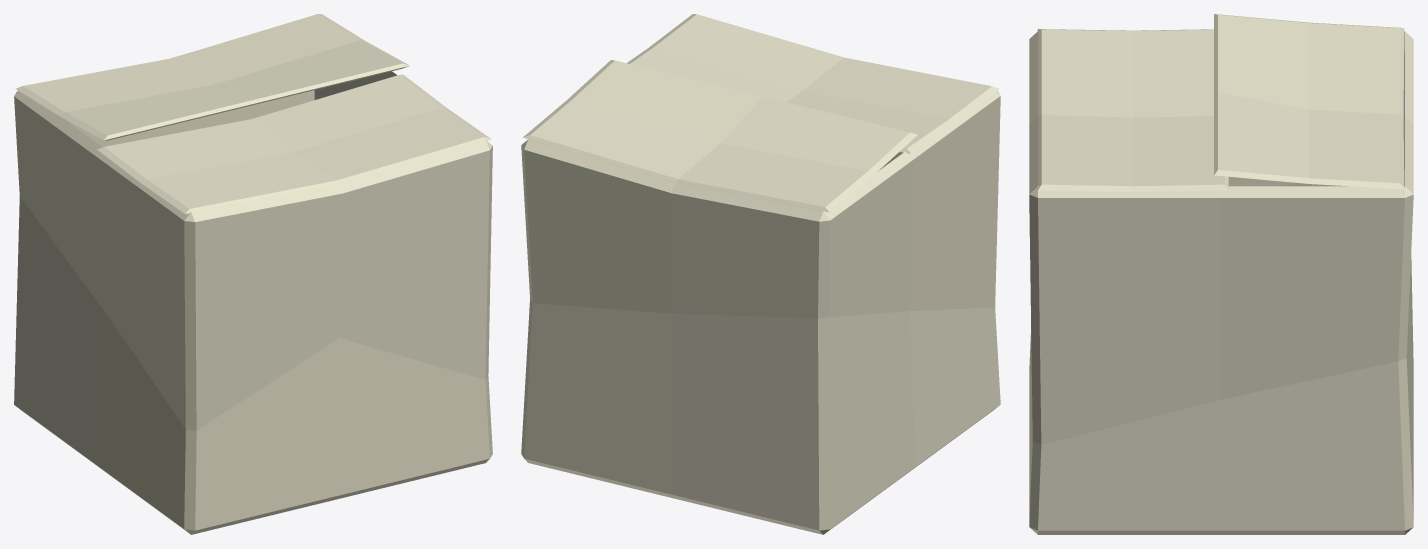
3 views of the same model, side by side, from view 1: azimuth 30°, elevation 25°; view 2: azimuth 150°, elevation 25°; view 3: azimuth 270°, elevation 25° (orthographic). The views are drawn at different scales.
Visible parts, largest first — view 1: Box2; view 2: Box2; view 3: Box2.
Part boxes in pixels (left/top/right/bottom): Box2: left=14, top=14, right=492, bottom=534; Box2: left=521, top=14, right=1000, bottom=534; Box2: left=1029, top=14, right=1413, bottom=534.
Size of the model in its own units: 200 by 210 by 200.
